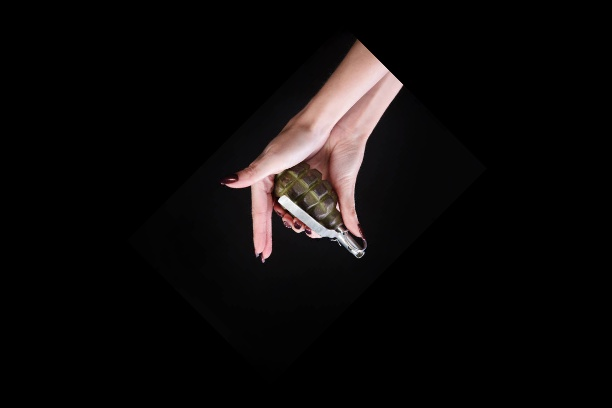e1: (263, 159, 370, 267)
